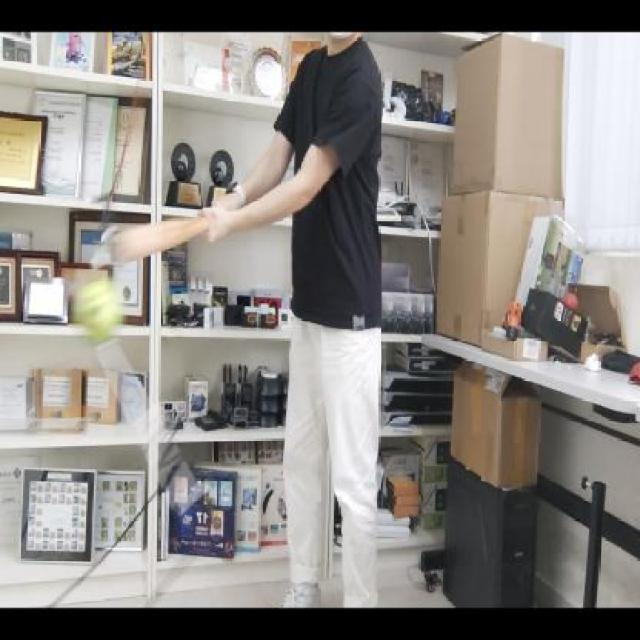baseball: (72, 273, 123, 344)
